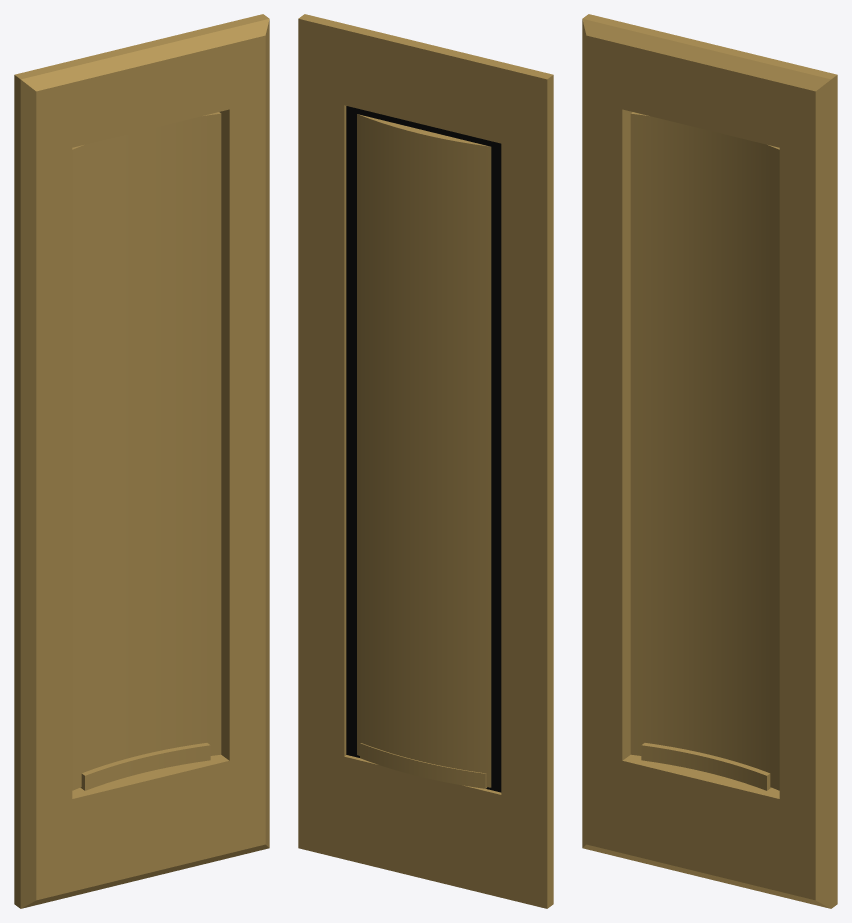
3 renders of one model, left to right at view 1: azimuth 30°, elevation 25°; view 2: azimuth 150°, elevation 25°; view 3: azimuth 330°, elevation 25°, orthographic.
Parts seen in each view (by area): view 1: iron_letter_plate, iron_letter_flap, iron_letter_lip; view 2: iron_letter_plate, iron_letter_flap, iron_letter_liner, iron_letter_lip; view 3: iron_letter_plate, iron_letter_flap, iron_letter_lip.
Boxes of the visible parts, <box> form: iron_letter_plate: <box>14,14,269,908</box>; iron_letter_flap: <box>72,112,221,790</box>; iron_letter_lip: <box>80,743,210,790</box>; iron_letter_plate: <box>298,14,553,908</box>; iron_letter_flap: <box>357,114,491,787</box>; iron_letter_liner: <box>346,106,501,792</box>; iron_letter_lip: <box>360,743,486,788</box>; iron_letter_plate: <box>582,14,837,908</box>; iron_letter_flap: <box>630,112,779,790</box>; iron_letter_lip: <box>641,743,771,790</box>.
Bounding box in the file's own units: 0.076 × 0.242 × 0.0084.
